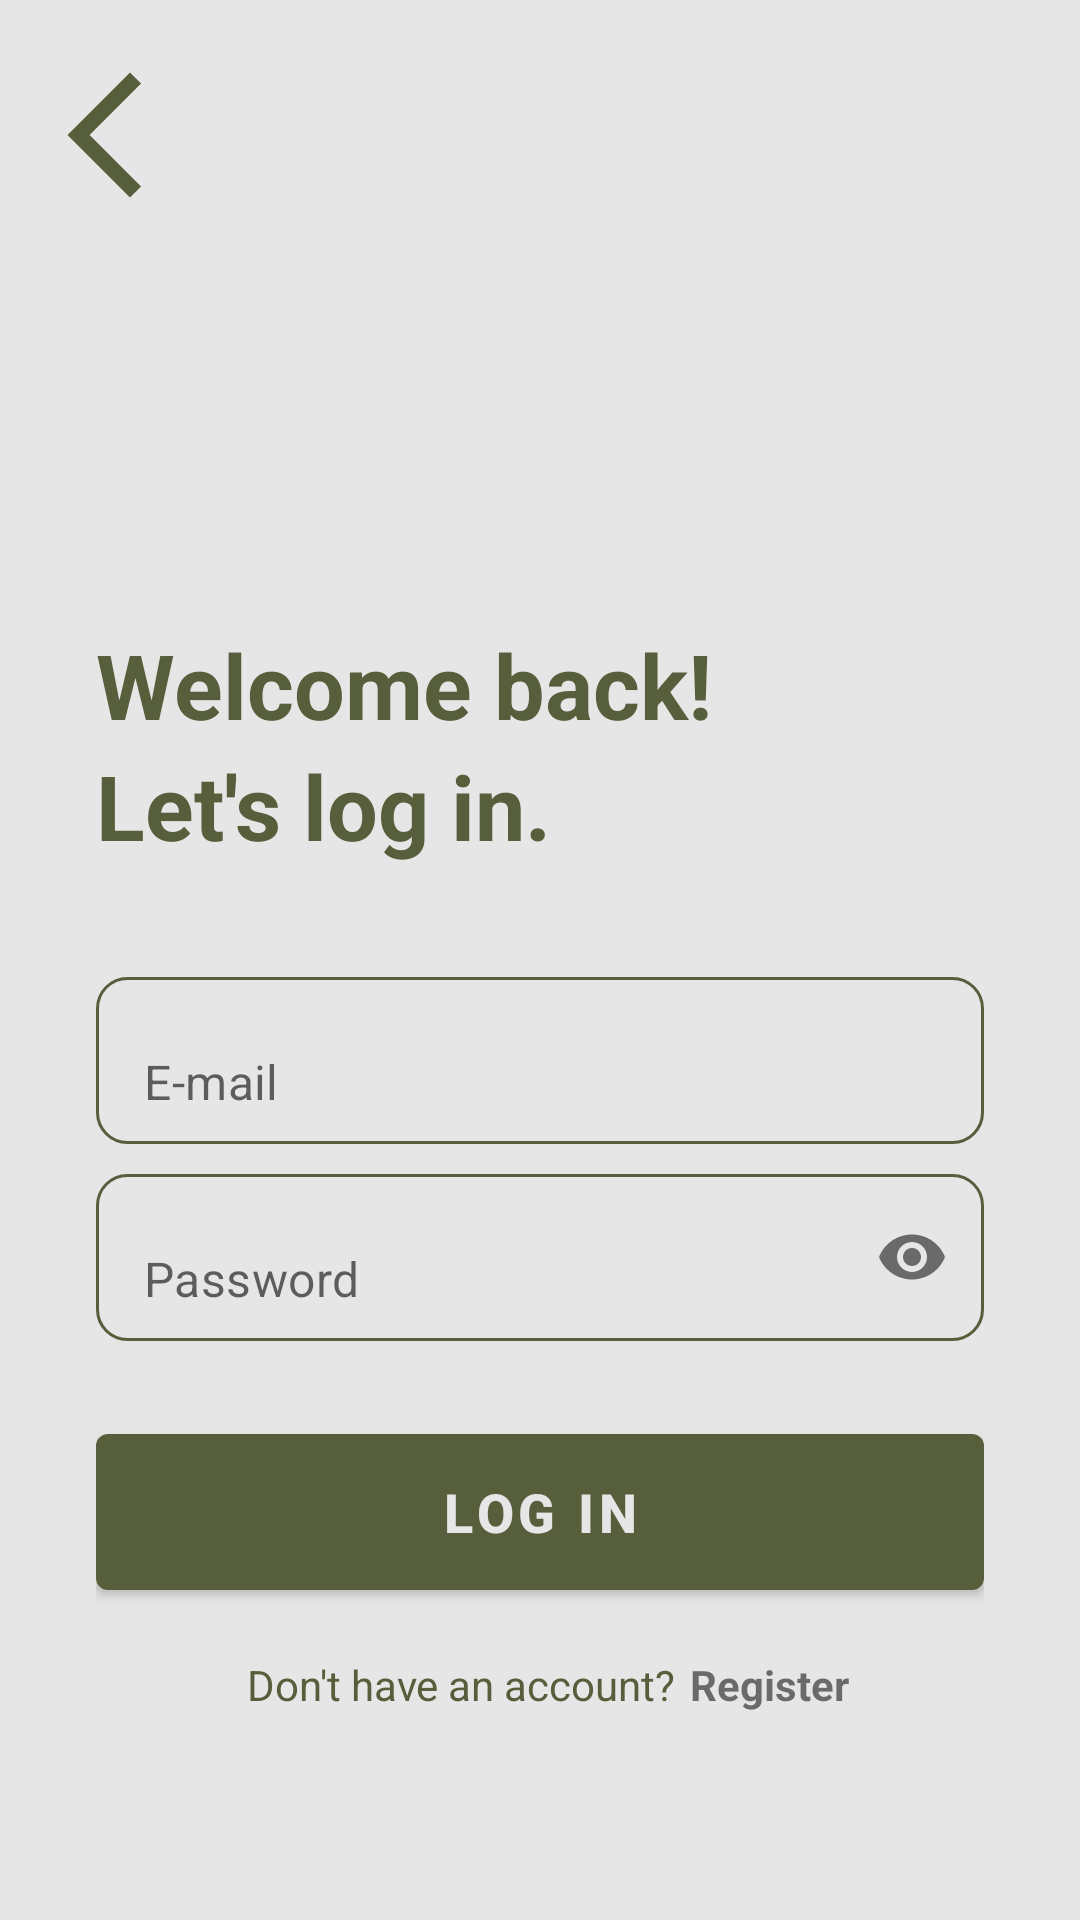

Icon click points for this 1080*1920 phone screenshot, format (x,y):
Go back: (104,135)
